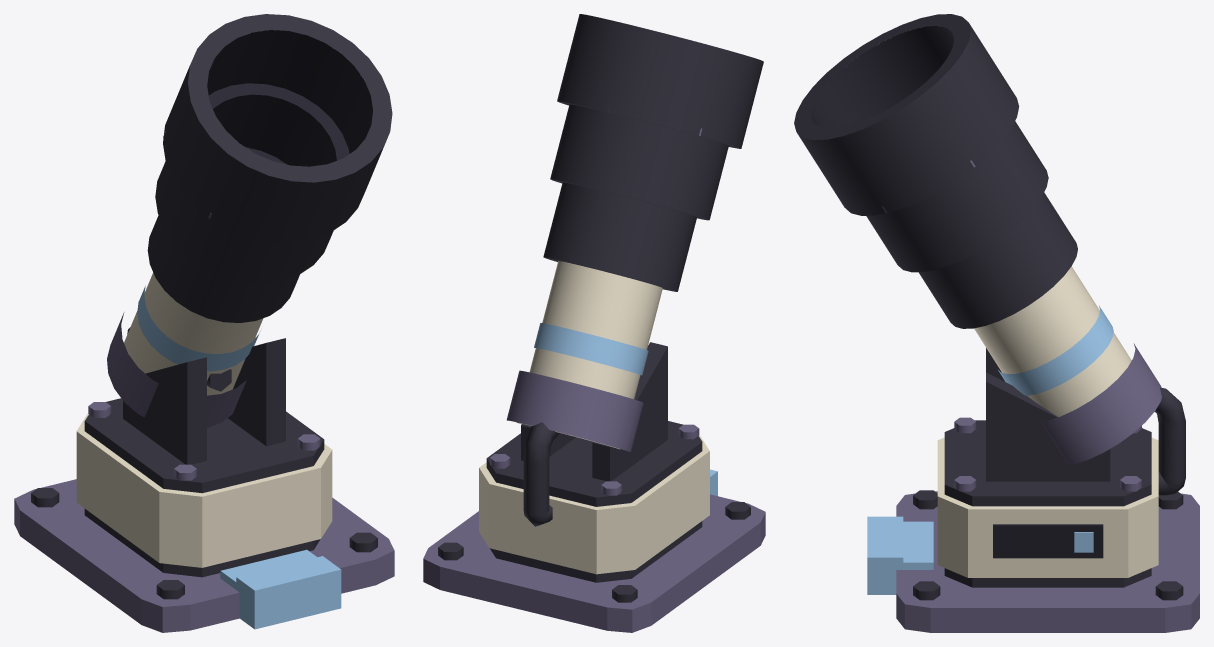
File: star_tracker.glb
The picture shows the model from 3 angles, left to right: view 1: azimuth 30°, elevation 25°; view 2: azimuth 150°, elevation 25°; view 3: azimuth 270°, elevation 25°; orthographic projection. The views are drawn at different scales.
Parts seen in each view (by area): view 1: tracker_Graphite, tracker_CreamHull, tracker_PurpleGrey, tracker_DecalDark, tracker_PaleBlue; view 2: tracker_Graphite, tracker_PurpleGrey, tracker_CreamHull, tracker_PaleBlue; view 3: tracker_Graphite, tracker_PurpleGrey, tracker_CreamHull, tracker_DecalDark, tracker_PaleBlue.
Boxes of the visible parts, box(x1,y1,x2,y2) form: tracker_Graphite: box(31, 14, 392, 599); tracker_CreamHull: box(76, 273, 332, 567); tracker_PurpleGrey: box(14, 131, 394, 632); tracker_DecalDark: box(207, 30, 372, 166); tracker_PaleBlue: box(137, 285, 341, 629); tracker_Graphite: box(438, 14, 763, 602); tracker_PurpleGrey: box(423, 93, 765, 632); tracker_CreamHull: box(479, 261, 709, 574); tracker_PaleBlue: box(534, 323, 717, 495); tracker_Graphite: box(794, 14, 1185, 600); tracker_PurpleGrey: box(882, 160, 1199, 632); tracker_CreamHull: box(937, 266, 1158, 577); tracker_DecalDark: box(811, 26, 1103, 558); tracker_PaleBlue: box(867, 305, 1113, 594).
Bounding box in the file's own units: 0.2 × 0.4348 × 0.2941.
